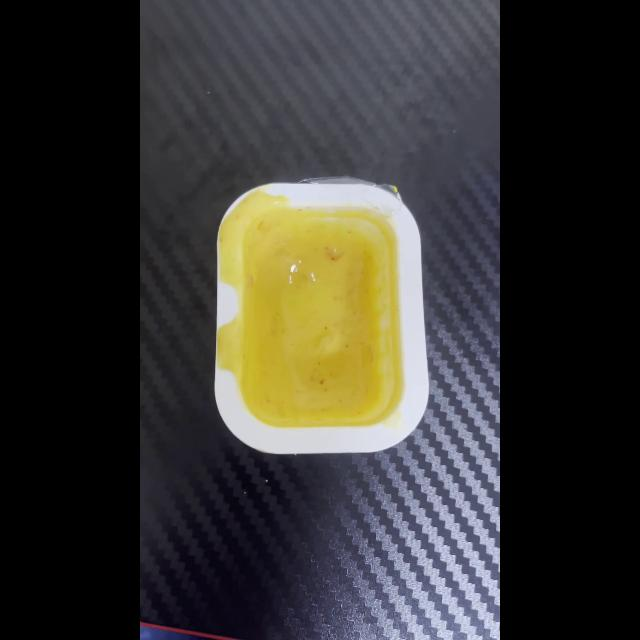dirty: (215, 181, 429, 451)
